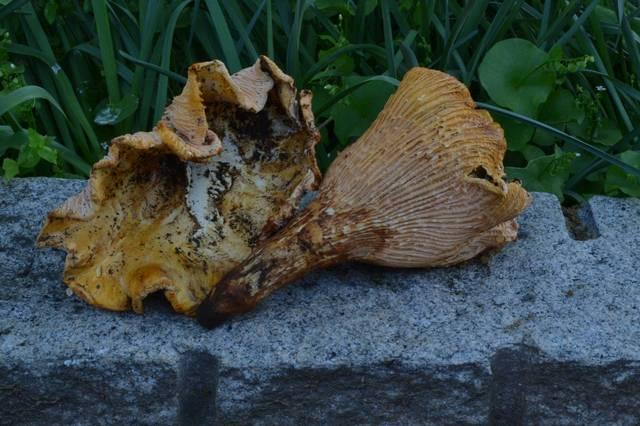Edible Mushroom: (195, 64, 533, 324), (35, 53, 323, 317)
